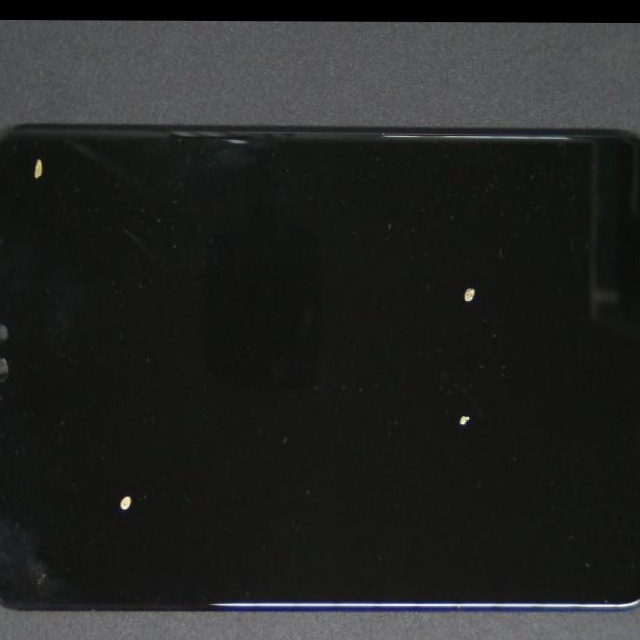stain: (212, 218, 640, 578), (199, 129, 640, 393), (39, 217, 227, 640), (0, 75, 86, 226)
